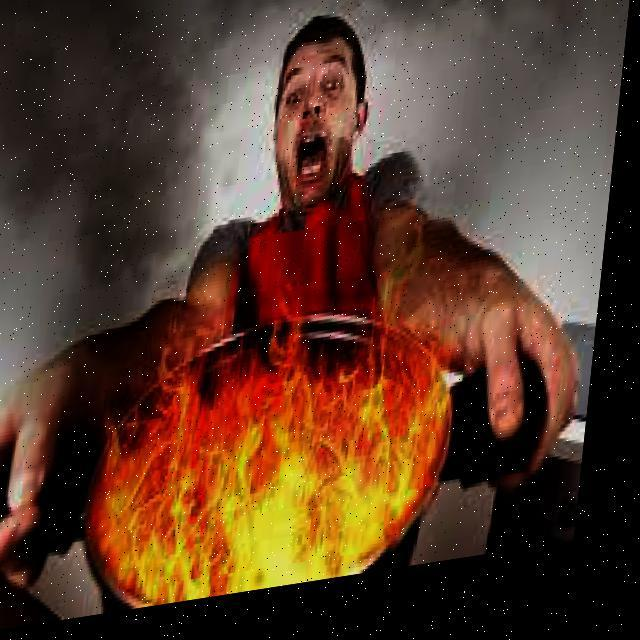Fire: (100, 290, 472, 611)
